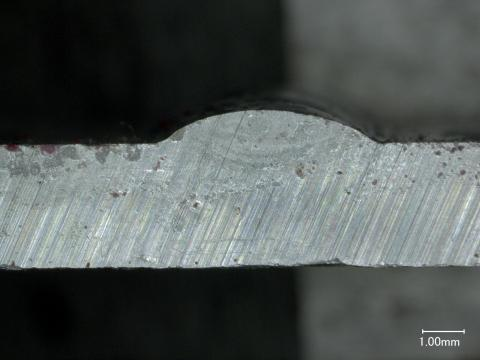test: (158, 110, 379, 144)
